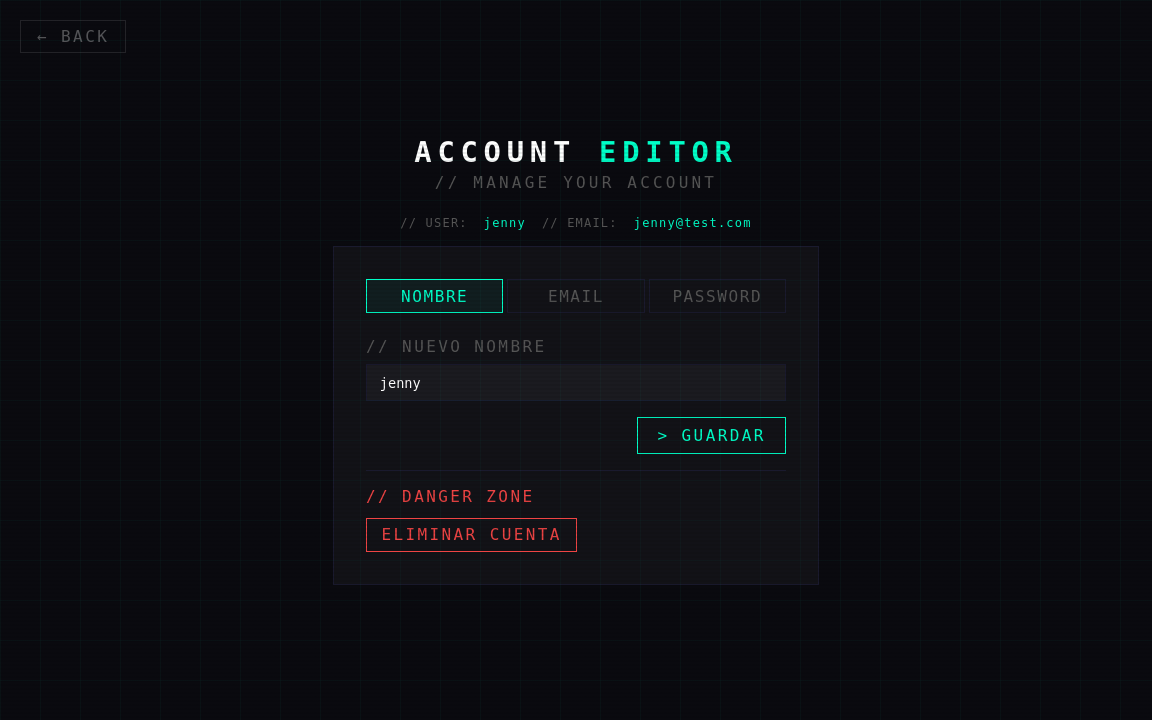
it: AccountEditor › cambia de tab al hacer click
This screenshot has width=1152, height=720.
Click the button "EMAIL" at {"x": 576, "y": 296}, box [507,279,645,313]
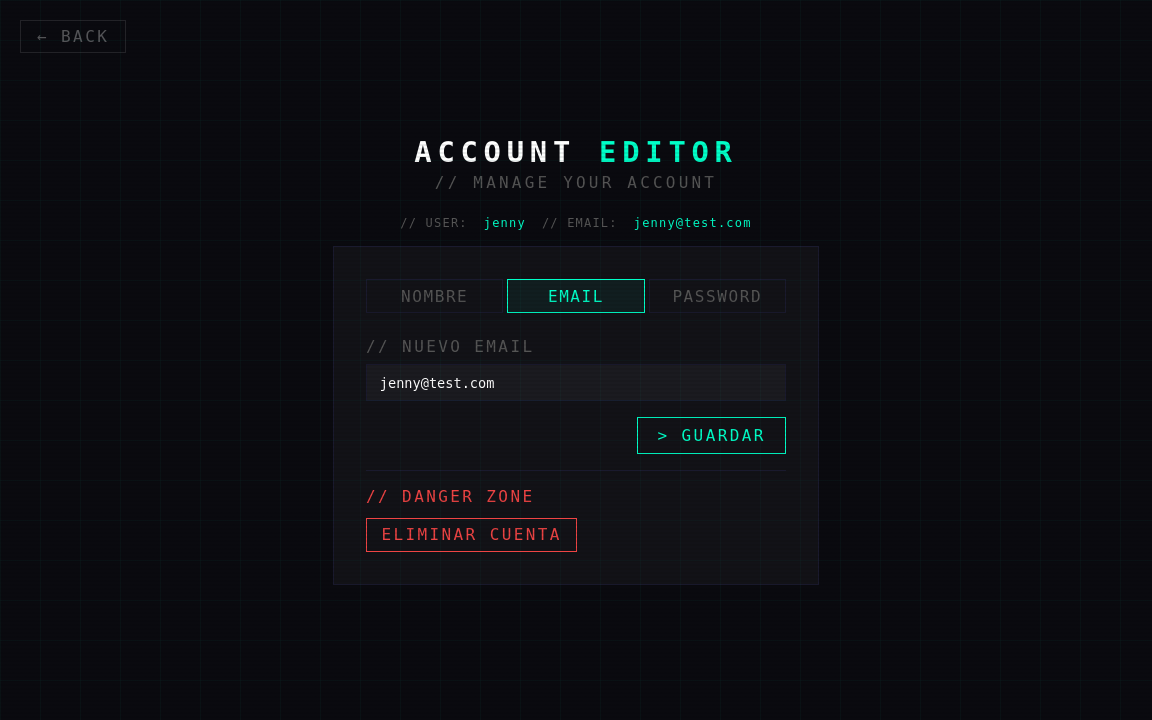
Result: the field with placeholder "Nuevo email" is shown at [366,364,786,401]
